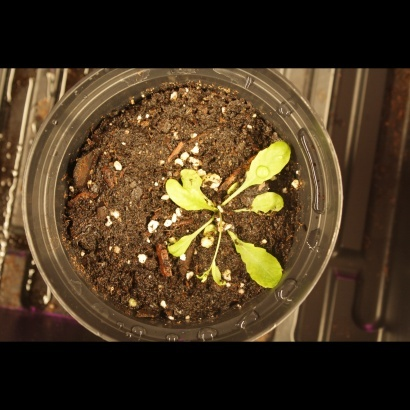leaf: (229, 232, 286, 289), (244, 137, 295, 188), (160, 227, 200, 267), (166, 178, 208, 214), (246, 192, 289, 217), (180, 164, 212, 197), (196, 255, 224, 290)
